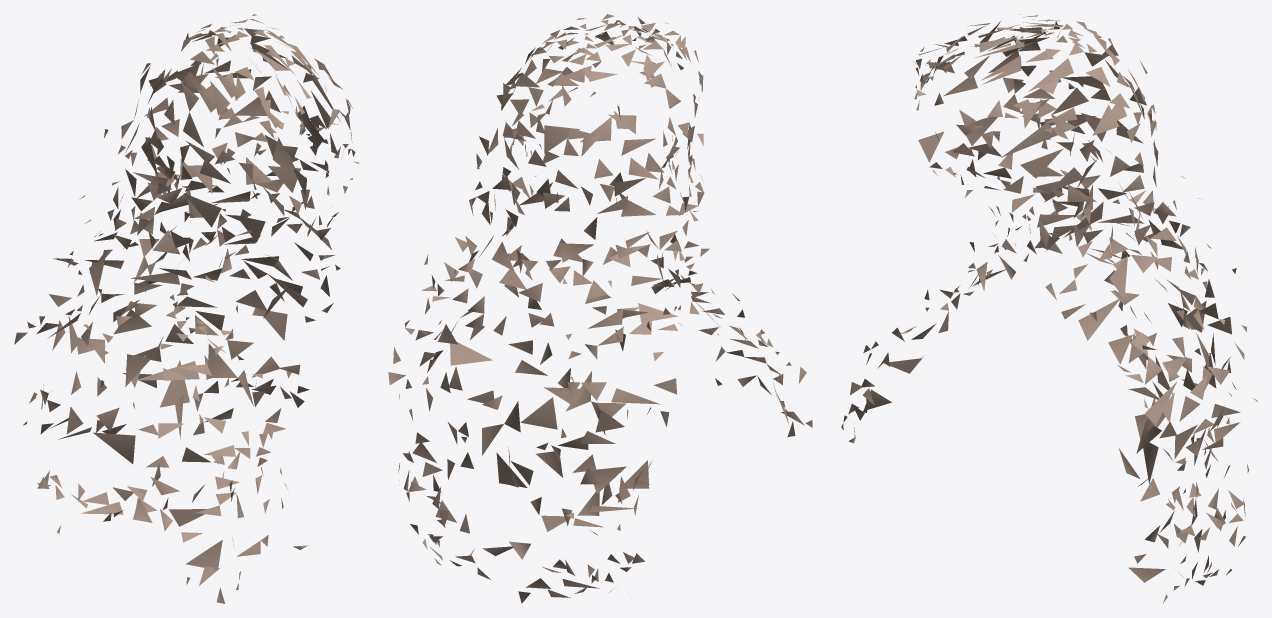
File: female_hair_06_lod2.glb
The picture shows the model from 3 angles, left to right: view 1: azimuth 30°, elevation 25°; view 2: azimuth 150°, elevation 25°; view 3: azimuth 270°, elevation 25°; orthographic projection. The views are drawn at different scales.
Parts seen in each view (by area): view 1: female-hair-06; view 2: female-hair-06; view 3: female-hair-06.
Boxes of the visible parts, left/top/right/bottom form: female-hair-06: left=14, top=14, right=359, bottom=603; female-hair-06: left=388, top=14, right=812, bottom=603; female-hair-06: left=841, top=14, right=1257, bottom=602.
Size of the model in its own units: 0.3207 by 0.5165 by 0.3629.
